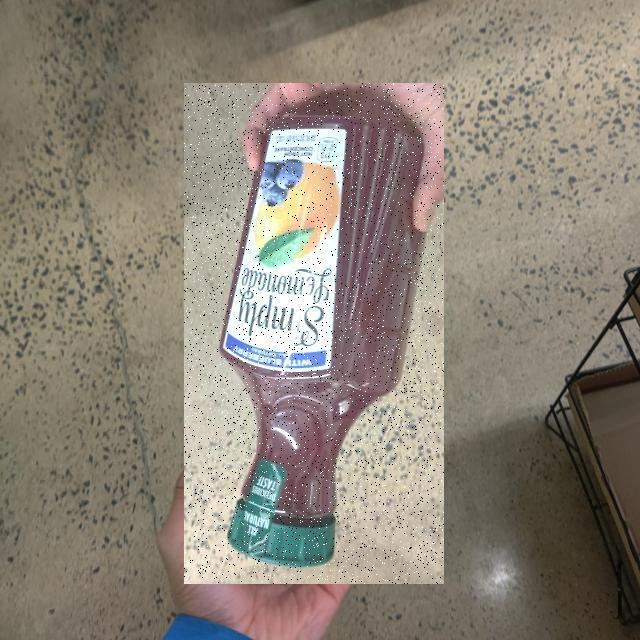Juice: (185, 83, 445, 584)
